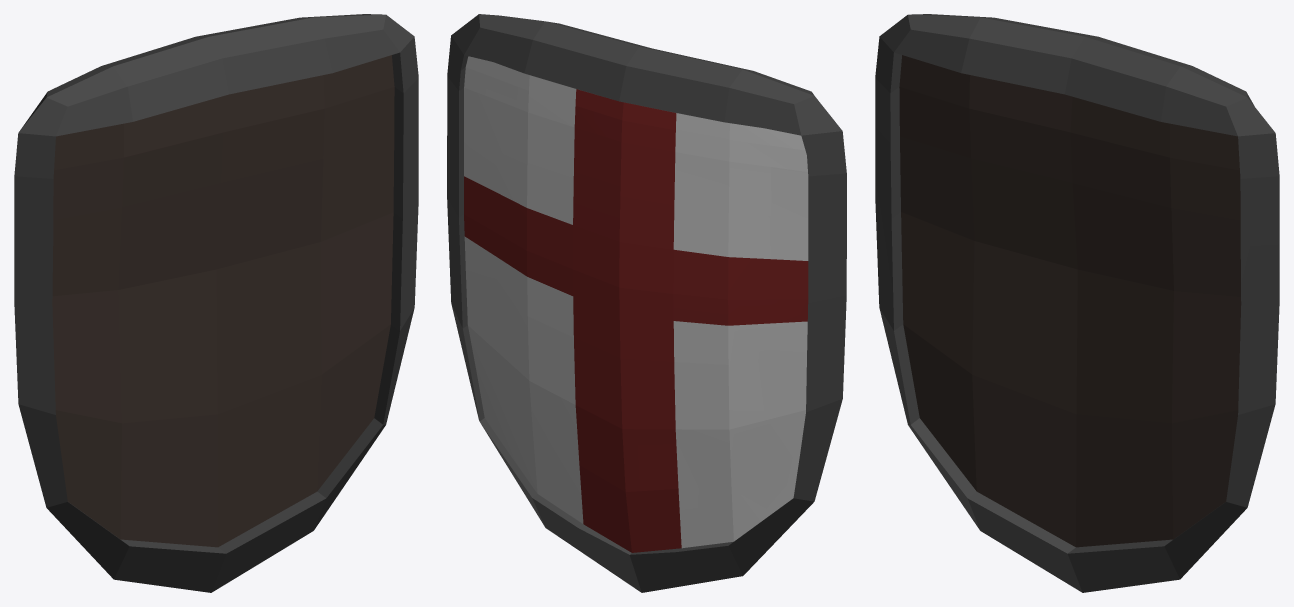
Rendered from escudo.fbx.
3 views of the same model, side by side, from view 1: azimuth 30°, elevation 25°; view 2: azimuth 150°, elevation 25°; view 3: azimuth 330°, elevation 25° (orthographic).
Visible parts, largest first — view 1: Escudo; view 2: Escudo; view 3: Escudo.
Boxes of the visible parts, <box> form: Escudo: <box>14,14,418,592</box>; Escudo: <box>447,14,846,592</box>; Escudo: <box>875,14,1279,592</box>.
Bounding box in the file's own units: 41.72 × 54.65 × 7.98.
